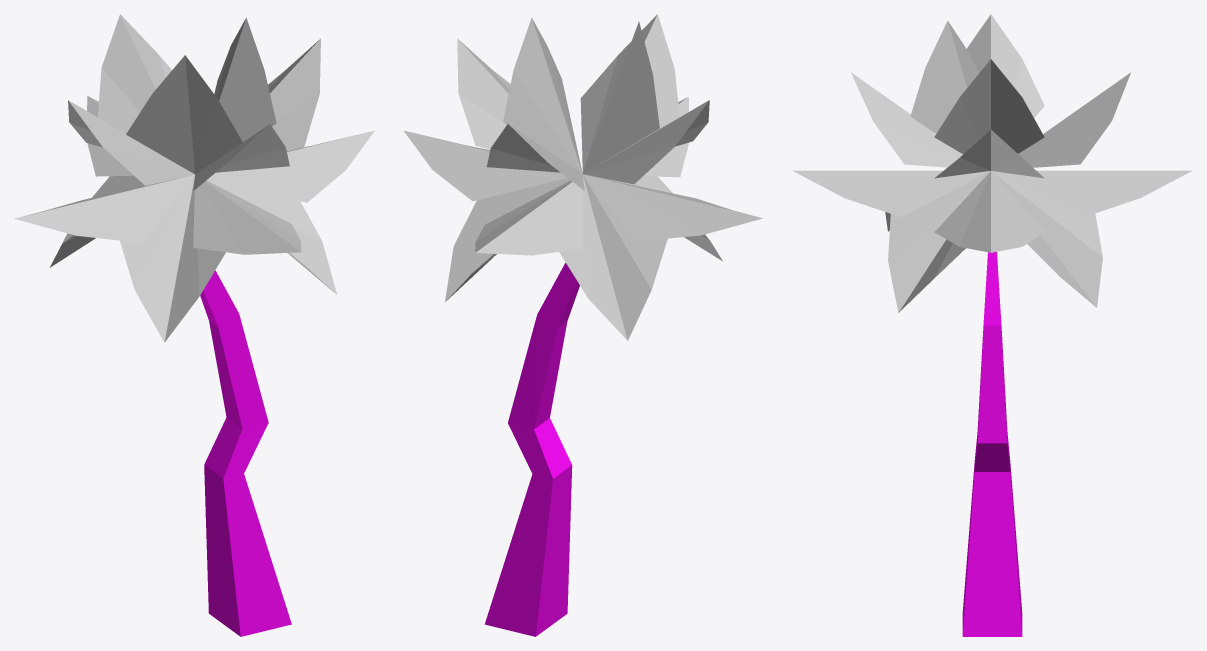
File: jungle tree 2.obj
The picture shows the model from 3 angles, left to right: view 1: azimuth 30°, elevation 25°; view 2: azimuth 150°, elevation 25°; view 3: azimuth 270°, elevation 25°; orthographic projection. The views are drawn at different scales.
Parts seen in each view (by area): view 1: jungle tree 2_back; view 2: jungle tree 2_back; view 3: jungle tree 2_back.
Boxes of the visible parts, x1,y1,x2,y2 form: jungle tree 2_back: (14,14,374,636); jungle tree 2_back: (404,14,762,636); jungle tree 2_back: (792,14,1192,636).
Bounding box in the file's own units: 2.61 × 4.17 × 2.68.
